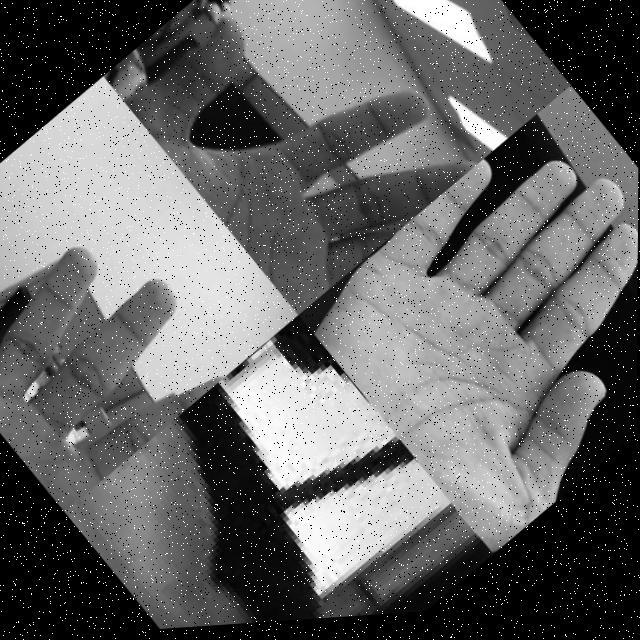no-gloves: (296, 101, 640, 572), (119, 0, 478, 329), (0, 148, 235, 517), (64, 386, 316, 636)
